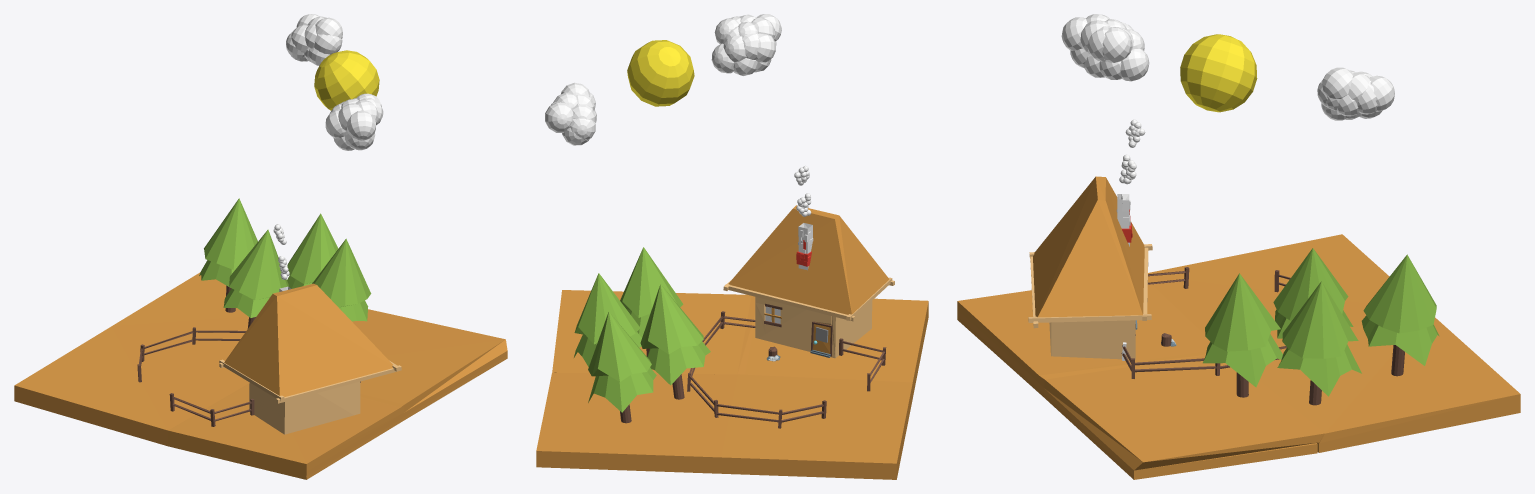
The model's file is forest_hut.glb.
The picture shows the model from 3 angles, left to right: view 1: azimuth 30°, elevation 25°; view 2: azimuth 150°, elevation 25°; view 3: azimuth 270°, elevation 25°; orthographic projection. The views are drawn at different scales.
Visible parts, largest first — view 1: group1311499394_c31087, group337105923, group1362099818, group1542410157, group729594246, group1230798677, group785792611, group1000935264, group2146685707, group78030443, group1906826881, group1793525816; view 2: group1311499394_c31087, group337105923, group1542410157, group1362099818, group785792611, group729594246, group1000935264, group1230798677, group1793525816, group78030443, group413528325, group234917158 (+5 smaller); view 3: group1311499394_c31087, group337105923, group1542410157, group785792611, group1230798677, group1000935264, group1362099818, group729594246, group1196833605, group1362751408, group1793525816, group645048664 (+5 smaller).
Part boxes in pixels (box(x1,y1,x2,y2)): group1311499394_c31087: box(14, 272, 507, 479); group337105923: box(224, 283, 392, 396); group1362099818: box(249, 381, 360, 434); group1542410157: box(314, 50, 379, 110); group729594246: box(229, 229, 288, 300); group1230798677: box(312, 238, 371, 307); group785792611: box(204, 198, 257, 269); group1000935264: box(287, 213, 338, 284); group2146685707: box(346, 110, 375, 140); group78030443: box(223, 288, 269, 317); group1906826881: box(276, 365, 401, 403); group1793525816: box(199, 260, 235, 287); group1311499394_c31087: box(536, 290, 928, 479); group337105923: box(728, 205, 889, 314); group1542410157: box(627, 40, 694, 106); group1362099818: box(755, 297, 872, 358); group785792611: box(588, 311, 651, 381); group729594246: box(640, 284, 703, 354); group1000935264: box(574, 273, 640, 344); group1230798677: box(620, 247, 683, 317); group1793525816: box(588, 367, 656, 412); group78030443: box(647, 341, 710, 385); group413528325: box(725, 284, 855, 321); group234917158: box(545, 102, 573, 132); group1311499394_c31087: box(957, 234, 1520, 479); group337105923: box(1033, 176, 1144, 317); group1542410157: box(1180, 34, 1257, 112); group785792611: box(1363, 254, 1436, 333); group1230798677: box(1205, 273, 1280, 351); group1000935264: box(1282, 281, 1358, 358); group1362099818: box(1049, 320, 1135, 359); group729594246: box(1273, 248, 1348, 320); group1196833605: box(1277, 344, 1361, 396); group1362751408: box(1203, 334, 1282, 387); group1793525816: box(1361, 315, 1439, 365); group645048664: box(1102, 27, 1131, 62).
Size of the model in its own units: 8.31 by 6.18 by 8.34.
